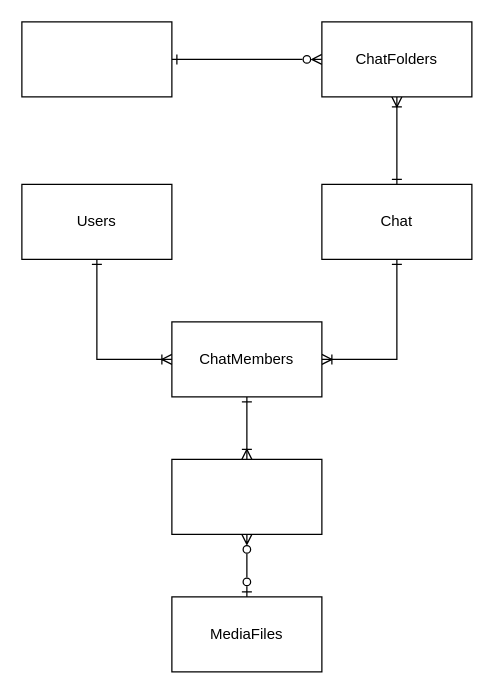
The diagram is 494 pixels wide and 694 high, and some of its shapes have lost their labels. The shapes that lost their labels are listed below. From the top down, each one's box as (x1, y1, x2, y2) in pixels, then its label:
(21, 21, 172, 97): Folders
(171, 458, 322, 534): Message
